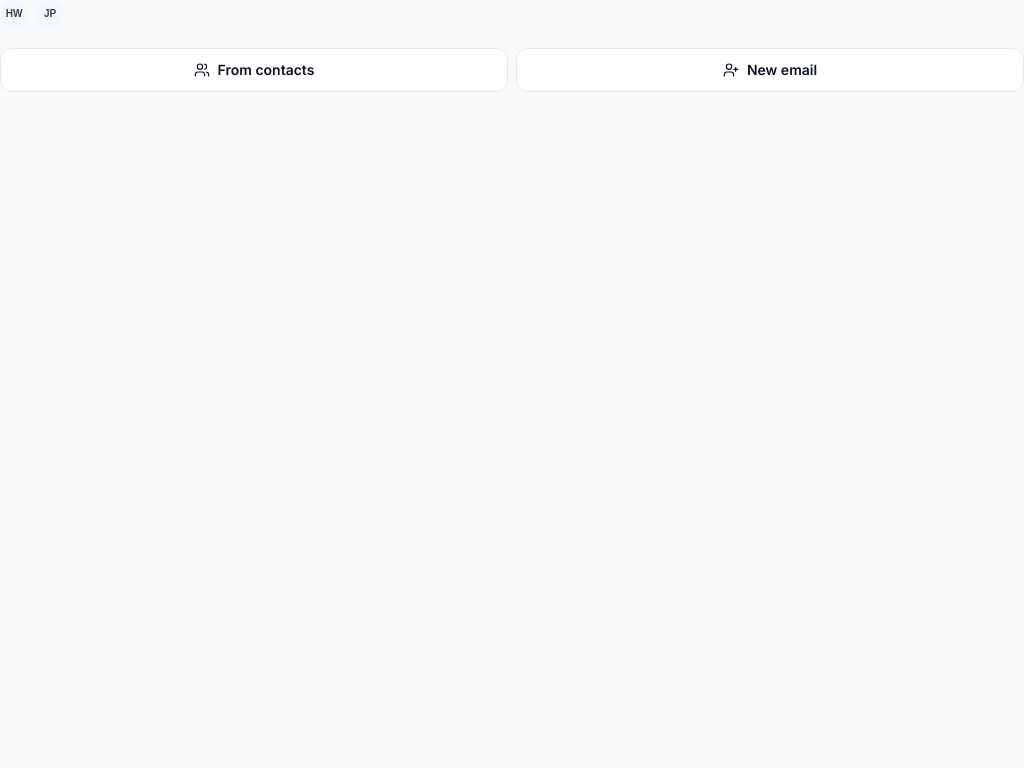
Test: AddSignerPanel › filters the contact list by search
Click the button "From contacts". click: (254, 70)
box: [0,48,508,92]
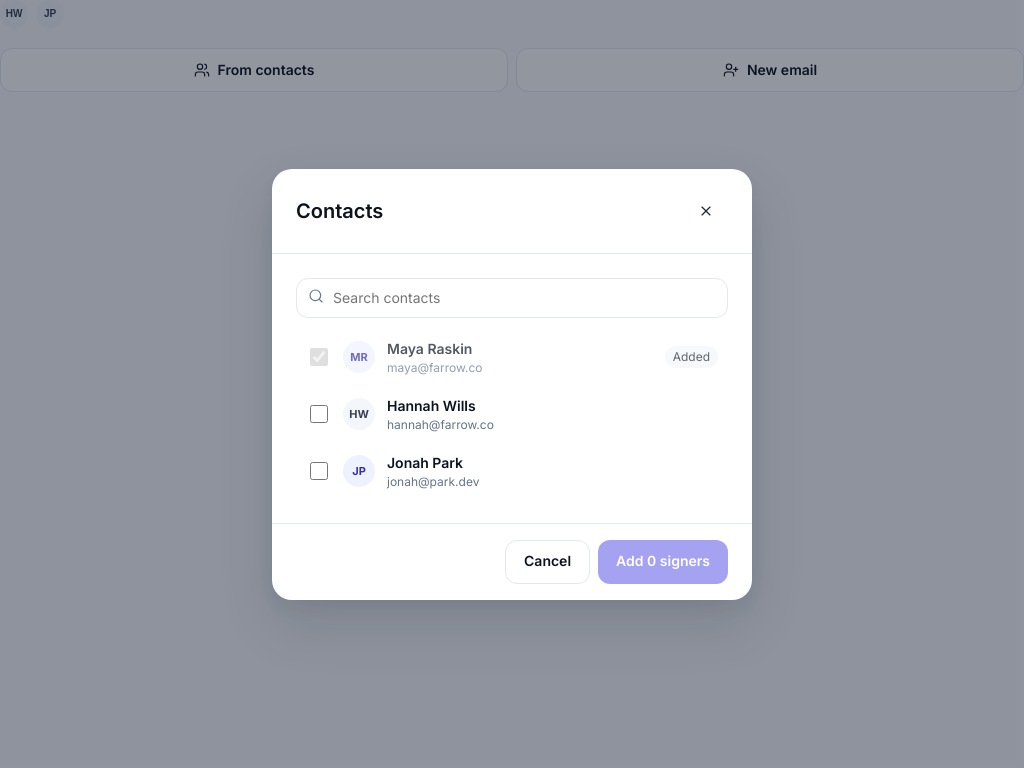
Type "jonah" into the search field labelled "Search contacts". click: (512, 298)
box: [296,278,728,318]
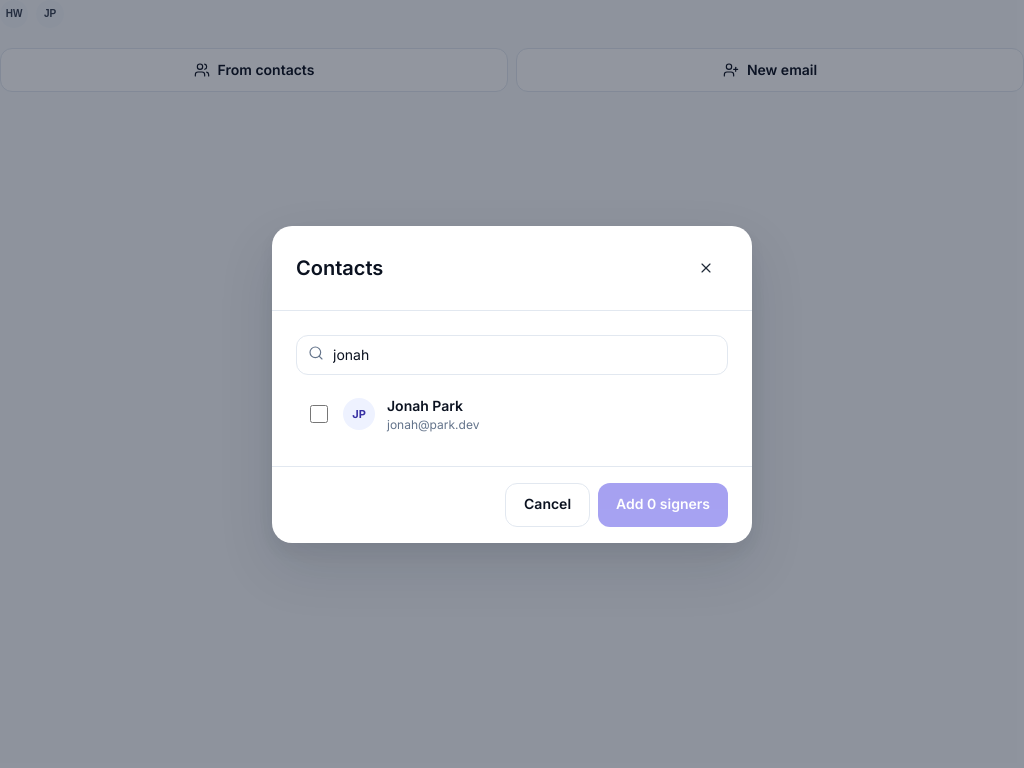
Now the checkbox labelled "Jonah Park" is shown, box [310,405,328,423]
Now the text "Hannah Wills" is gone
